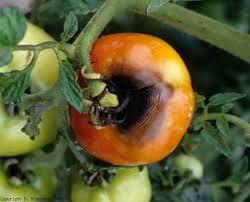tomato early blight: (66, 32, 198, 200)
